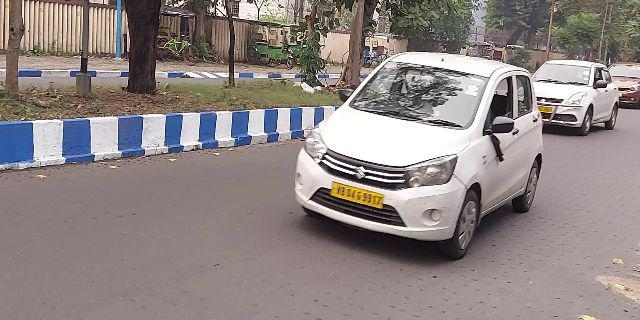Car: (292, 61, 542, 255), (524, 57, 620, 131), (603, 57, 640, 108)
